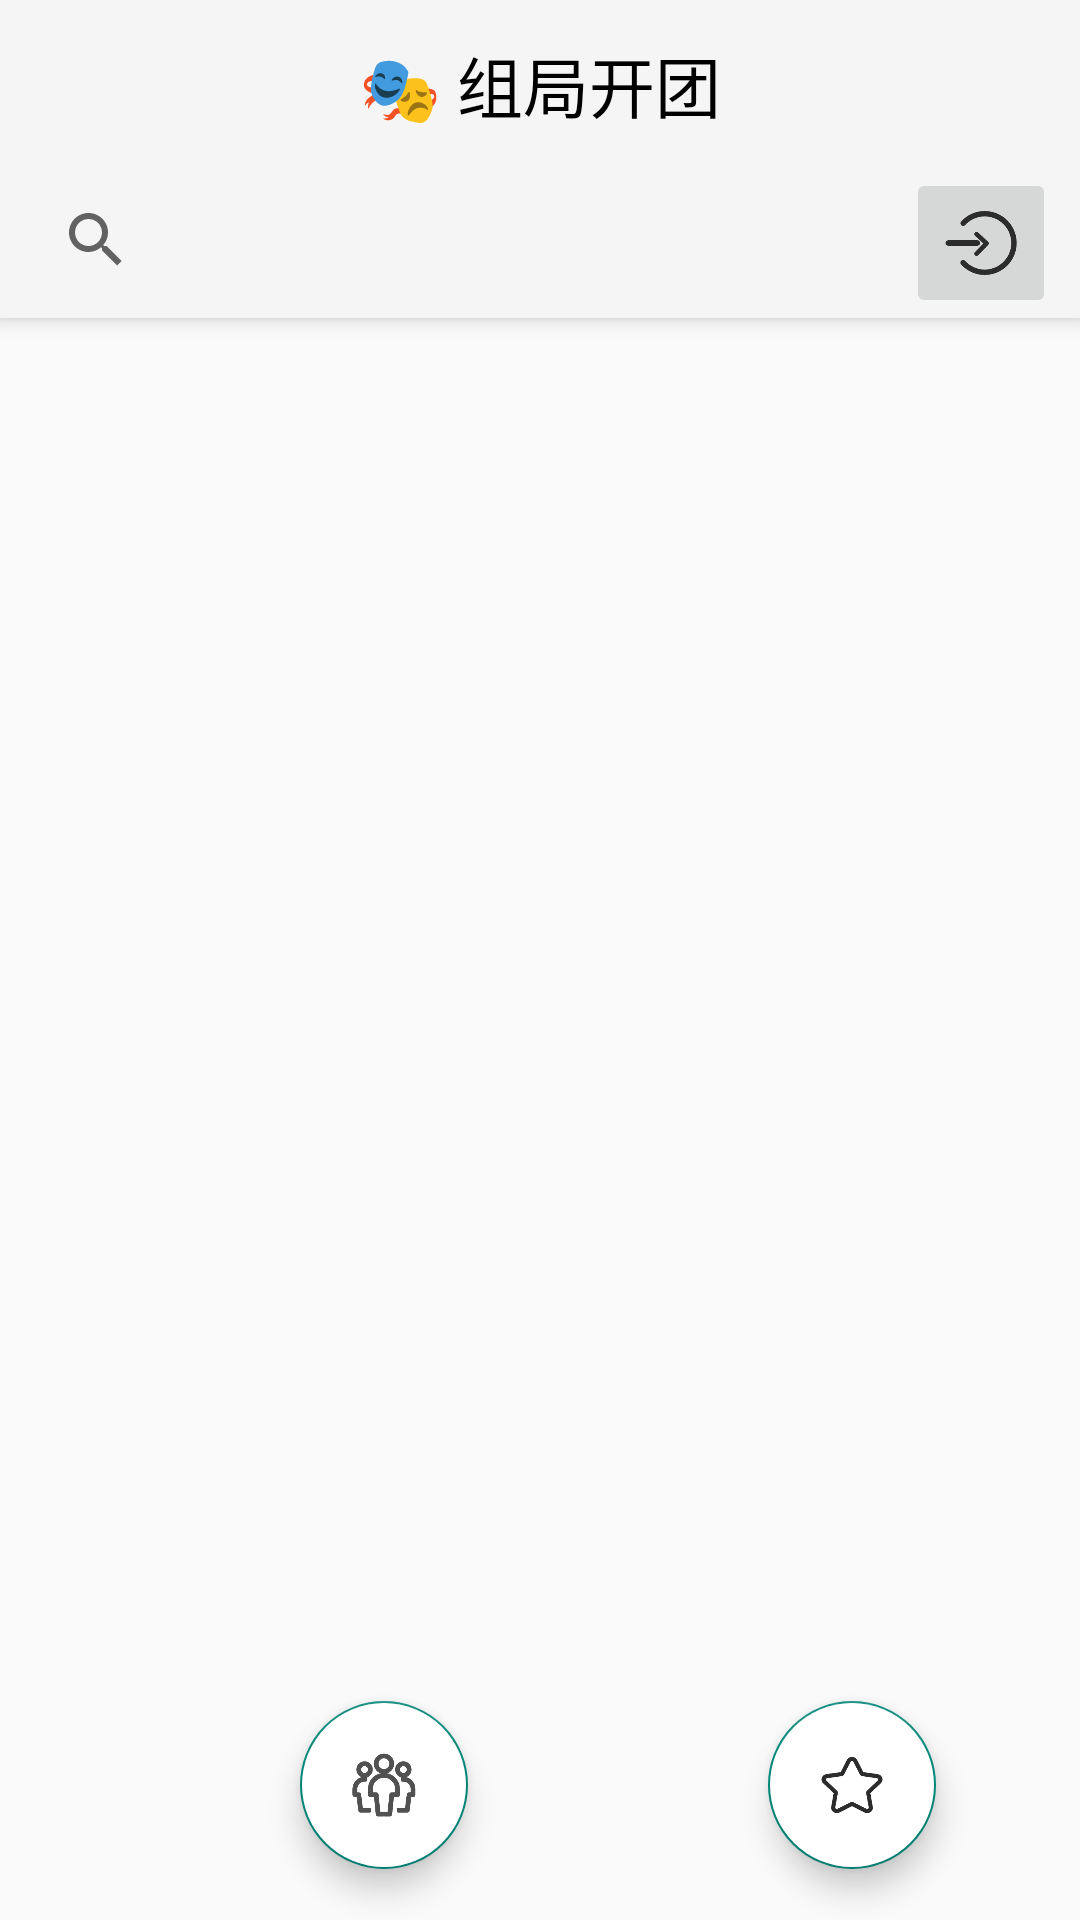

Screen size 1080px×1920px. Icon name, then its center in pixels as [x,y]:
addgroup: [384,1785]
rec: [852,1785]
